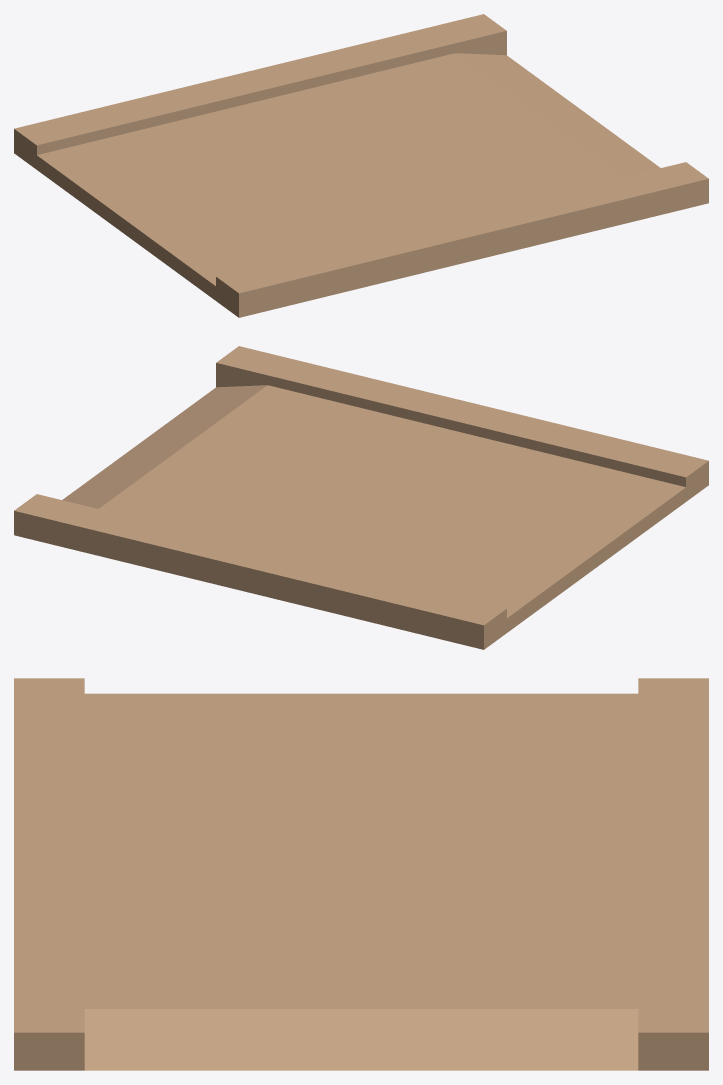
Rendered from bridge.glb.
3 renders of one model, top to bottom at view 1: azimuth 30°, elevation 25°; view 2: azimuth 150°, elevation 25°; view 3: azimuth 270°, elevation 25°, orthographic. The views are drawn at different scales.
Parts seen in each view (by area): view 1: bridge; view 2: bridge; view 3: bridge.
Part boxes in pixels (x1,y1,x2,y2): bridge: [14, 14, 708, 317]; bridge: [14, 346, 708, 649]; bridge: [14, 678, 708, 1070].
Size of the model in its own units: 10.02 by 0.5 by 8.31.
